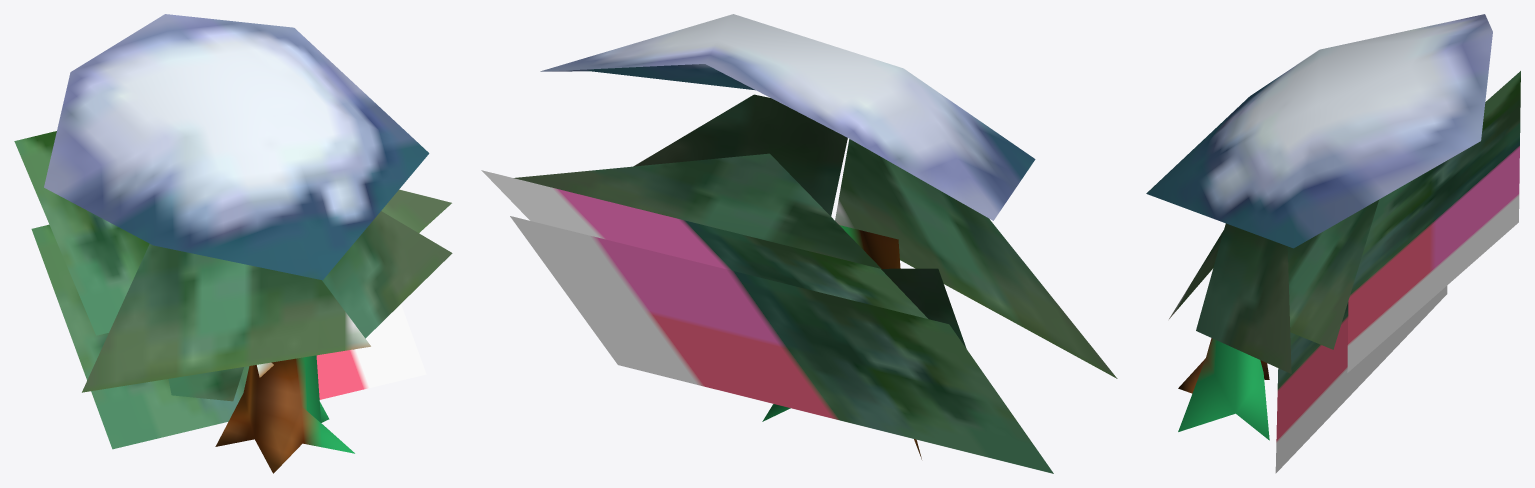
The model's file is fg_bushA_1_s.dae.
The picture shows the model from 3 angles, left to right: view 1: azimuth 30°, elevation 25°; view 2: azimuth 150°, elevation 25°; view 3: azimuth 270°, elevation 25°; orthographic projection. The views are drawn at different scales.
Visible parts, largest first — view 1: fg_bushA_1_s; view 2: fg_bushA_1_s; view 3: fg_bushA_1_s.
Part boxes in pixels (x1,y1,x2,y2): fg_bushA_1_s: [14, 14, 452, 473]; fg_bushA_1_s: [481, 14, 1117, 473]; fg_bushA_1_s: [1146, 14, 1520, 473].
Bounding box in the file's own units: 35.43 × 29.02 × 26.23.
Materials: 1 (1 with a texture image).
